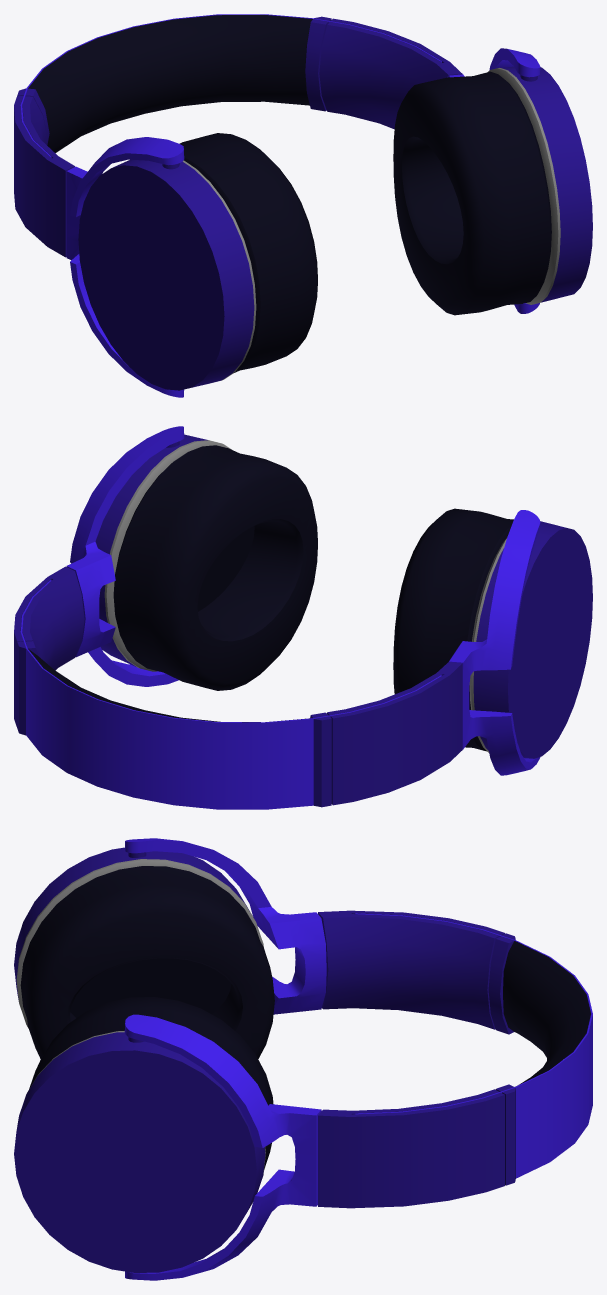
Rendered from hedphones2.fbx.
The picture shows the model from 3 angles, top to bottom: view 1: azimuth 30°, elevation 25°; view 2: azimuth 150°, elevation 25°; view 3: azimuth 270°, elevation 25°; orthographic projection. The views are drawn at different scales.
Parts seen in each view (by area): view 1: Cylinder.001, Cylinder; view 2: Cylinder.001, Cylinder; view 3: Cylinder.001, Cylinder.
Boxes of the visible parts, box(x1,y1,x2,y2) form: Cylinder.001: box(78, 66, 592, 390); Cylinder: box(14, 14, 540, 397); Cylinder.001: box(95, 434, 592, 758); Cylinder: box(14, 426, 540, 809); Cylinder.001: box(14, 847, 274, 1272); Cylinder: box(124, 838, 592, 1280).
Bounding box in the file's own units: 16.99 × 9.2 × 18.39.
